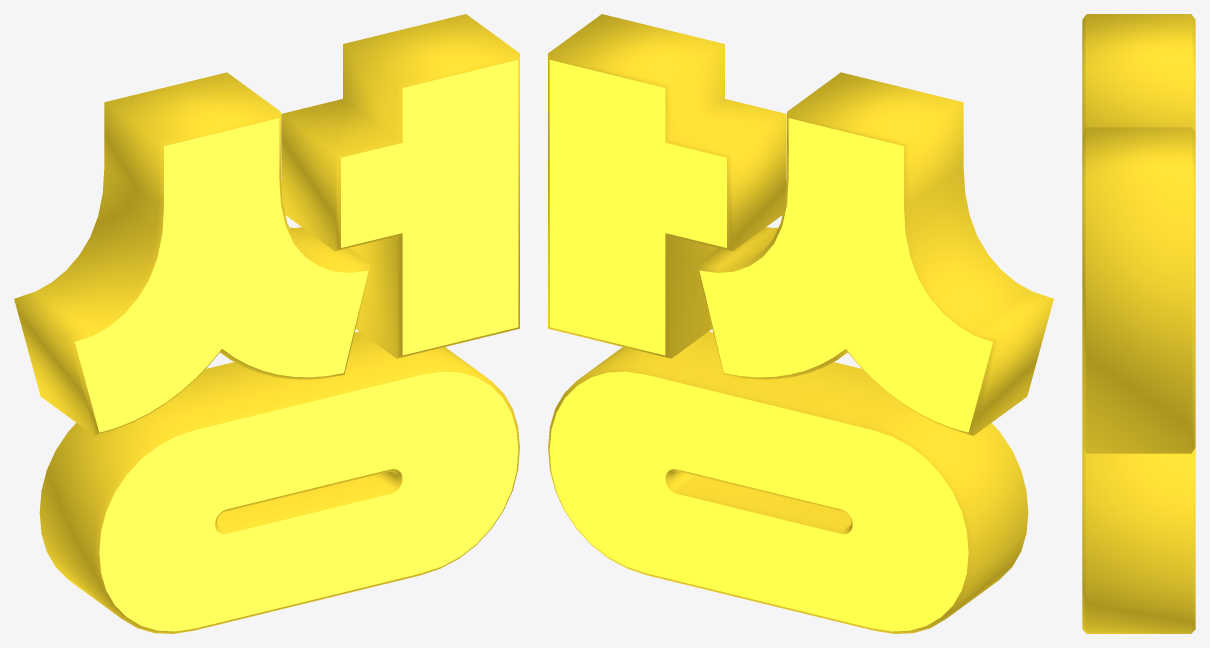
The picture shows the model from 3 angles, left to right: view 1: azimuth 30°, elevation 25°; view 2: azimuth 150°, elevation 25°; view 3: azimuth 270°, elevation 25°; orthographic projection. The views are drawn at different scales.
Visible parts, largest first — view 1: glyph; view 2: glyph; view 3: glyph.
Boxes of the visible parts, box(x1,y1,x2,y2) form: glyph: box(14, 14, 519, 633); glyph: box(548, 14, 1053, 633); glyph: box(1082, 14, 1195, 633).
Size of the model in its own units: 0.0728 by 0.0766 by 0.0162.
